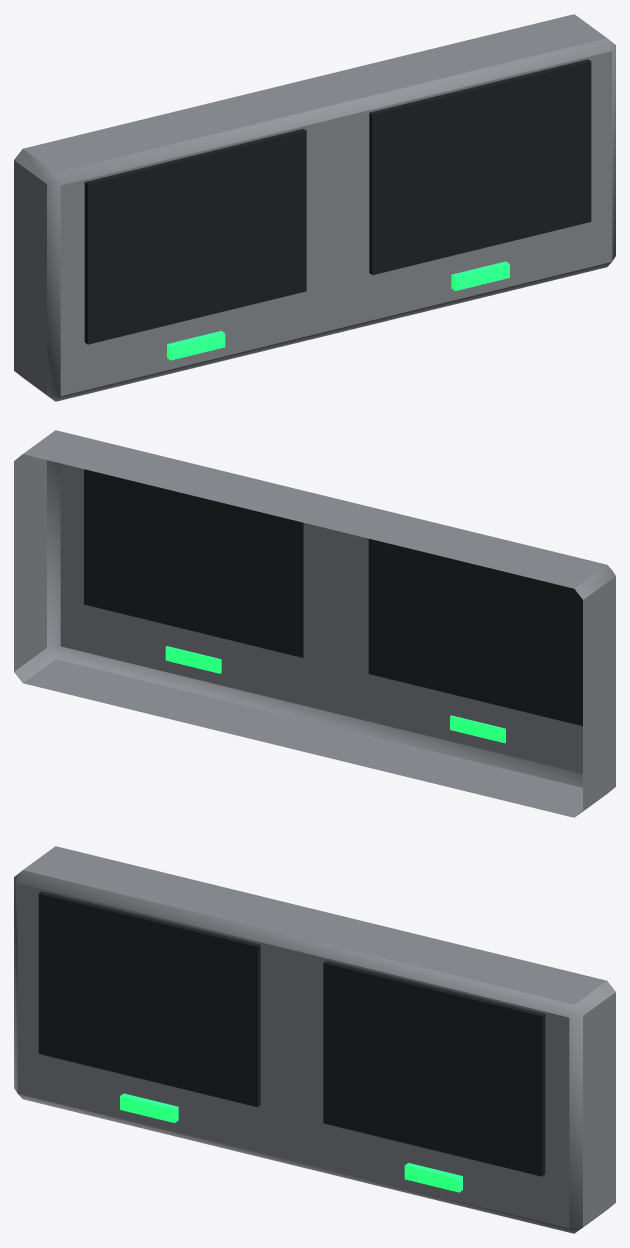
Rendered from SM_Dock_Tablets.fbx.
The picture shows the model from 3 angles, top to bottom: view 1: azimuth 30°, elevation 25°; view 2: azimuth 150°, elevation 25°; view 3: azimuth 330°, elevation 25°; orthographic projection.
Parts seen in each view (by area): view 1: SM_Dock_Tablets; view 2: SM_Dock_Tablets; view 3: SM_Dock_Tablets.
Part boxes in pixels (<box>): SM_Dock_Tablets: <box>14,14,615,401</box>; SM_Dock_Tablets: <box>14,430,615,817</box>; SM_Dock_Tablets: <box>14,846,615,1233</box>.
Bounding box in the file's own units: 0.52 × 0.2 × 0.066.
